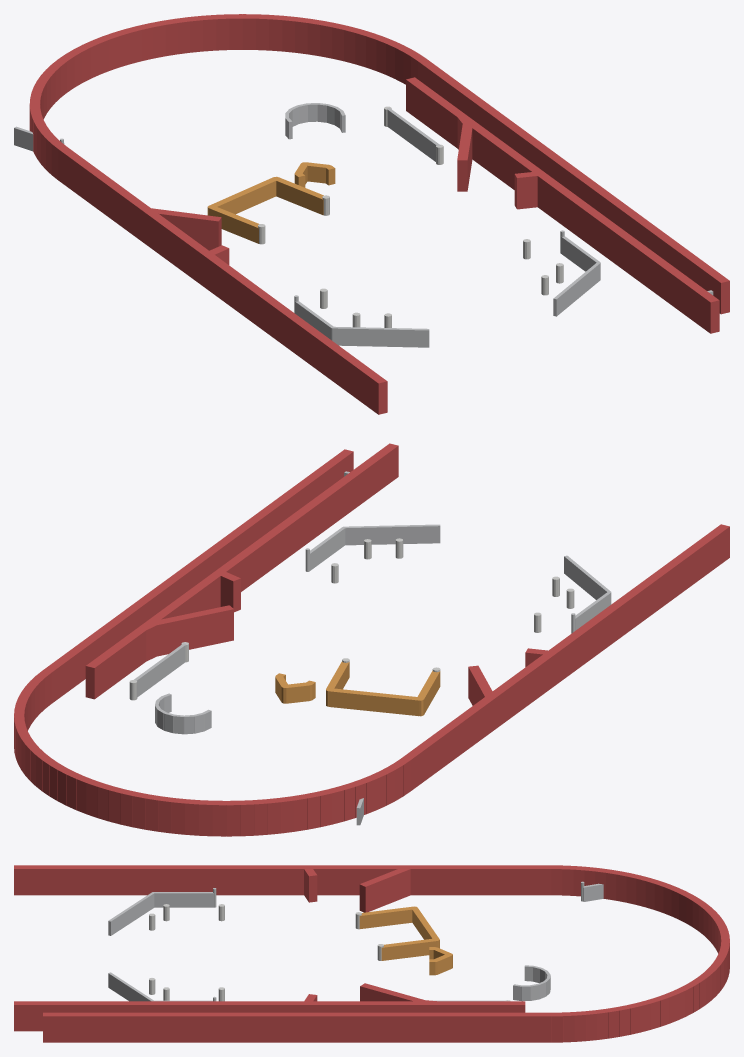
The model's file is Rodent_Guides.glb.
3 views of the same model, one above another, from view 1: azimuth 30°, elevation 25°; view 2: azimuth 150°, elevation 25°; view 3: azimuth 270°, elevation 25° (orthographic). The views are drawn at different scales.
Parts seen in each view (by area): view 1: Guides_Wood, Guides_Metal, Guides_Plastic, Posts_Rubber; view 2: Guides_Wood, Guides_Metal, Guides_Plastic, Posts_Rubber; view 3: Guides_Wood, Guides_Metal, Guides_Plastic, Posts_Rubber.
Part boxes in pixels (<box>): Guides_Wood: <box>29,14,729,414</box>; Guides_Metal: <box>14,103,713,347</box>; Guides_Plastic: <box>207,162,335,243</box>; Posts_Rubber: <box>258,106,563,327</box>; Guides_Wood: <box>14,443,729,836</box>; Guides_Metal: <box>134,471,611,825</box>; Guides_Plastic: <box>275,661,440,716</box>; Posts_Rubber: <box>129,538,574,700</box>; Guides_Wood: <box>14,865,729,1042</box>; Guides_Metal: <box>108,883,603,1001</box>; Guides_Plastic: <box>359,906,452,975</box>; Posts_Rubber: <box>149,904,510,1001</box>.
Size of the model in its own units: 0.6888 by 0.056 by 1.38.
